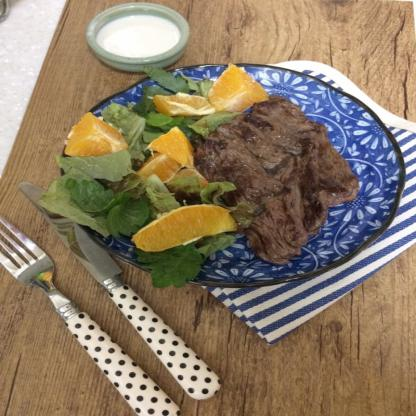Carne: (239, 125, 360, 261), (199, 96, 316, 190)
